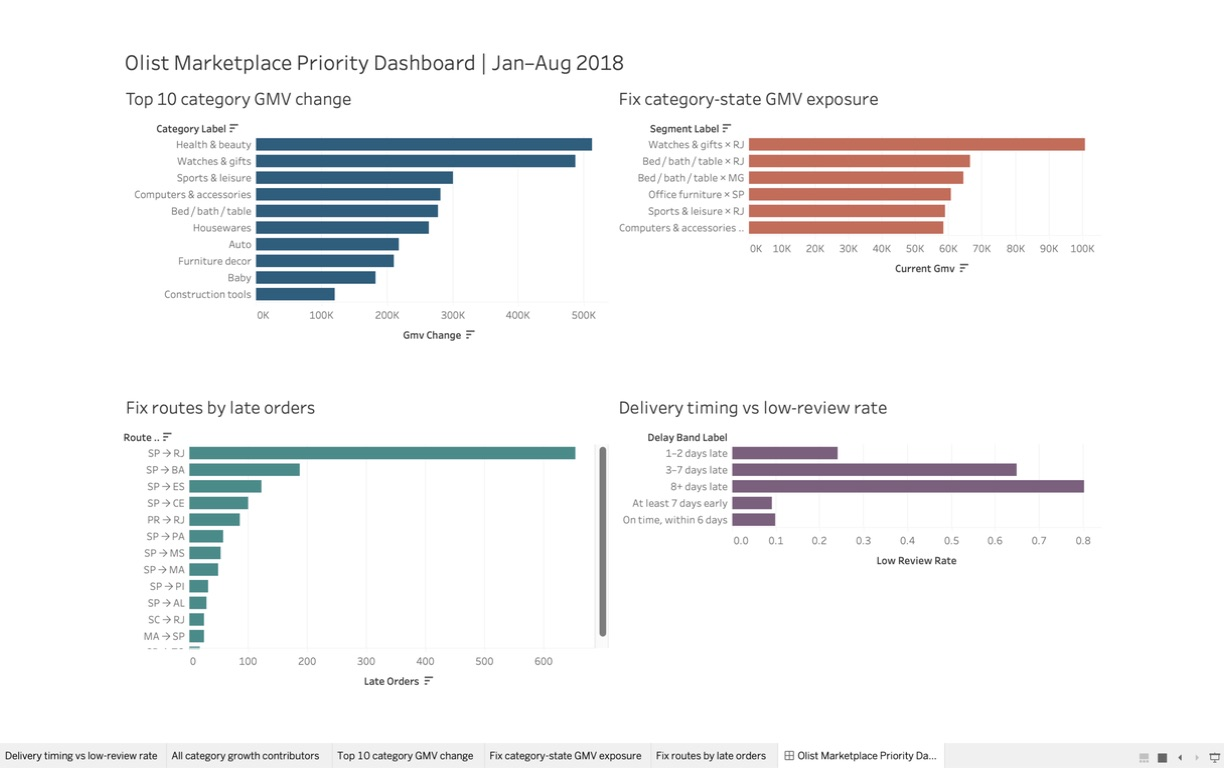

This screenshot's page, from the dashboard's own definition file:
{"tool":"tableau","page":{"name":"Olist Marketplace Priority Dashboard | Jan–Aug 2018","canvas":[1200,800],"ordinal":0},"visuals":[{"type":"title","box":[8,8,1184,42]},{"type":"worksheet","title":"Top 10 category GMV change","mark":"Automatic","rows":["category_label"],"cols":["gmv_change"],"box":[8,50,592,371]},{"type":"worksheet","title":"Fix category-state GMV exposure","mark":"Automatic","rows":["segment_label"],"cols":["current_gmv"],"box":[600,50,592,371]},{"type":"worksheet","title":"Fix routes by late orders","mark":"Automatic","rows":["route_label"],"cols":["late_orders"],"box":[8,421,592,371]},{"type":"worksheet","title":"Delivery timing vs low-review rate","mark":"Automatic","rows":["delay_band_label"],"cols":["low_review_rate"],"box":[600,421,592,371]}]}

Visuals, with their boxes on the page's 1200x800 design canvas (x1, y1, x2, y2). These are canvas units, not pixel positions in the 1224x768 screenshot, which may show the page scaled, cropped or inside an application window:
title: x1=8 y1=8 x2=1192 y2=50
"Top 10 category GMV change" worksheet: x1=8 y1=50 x2=600 y2=421
"Fix category-state GMV exposure" worksheet: x1=600 y1=50 x2=1192 y2=421
"Fix routes by late orders" worksheet: x1=8 y1=421 x2=600 y2=792
"Delivery timing vs low-review rate" worksheet: x1=600 y1=421 x2=1192 y2=792
